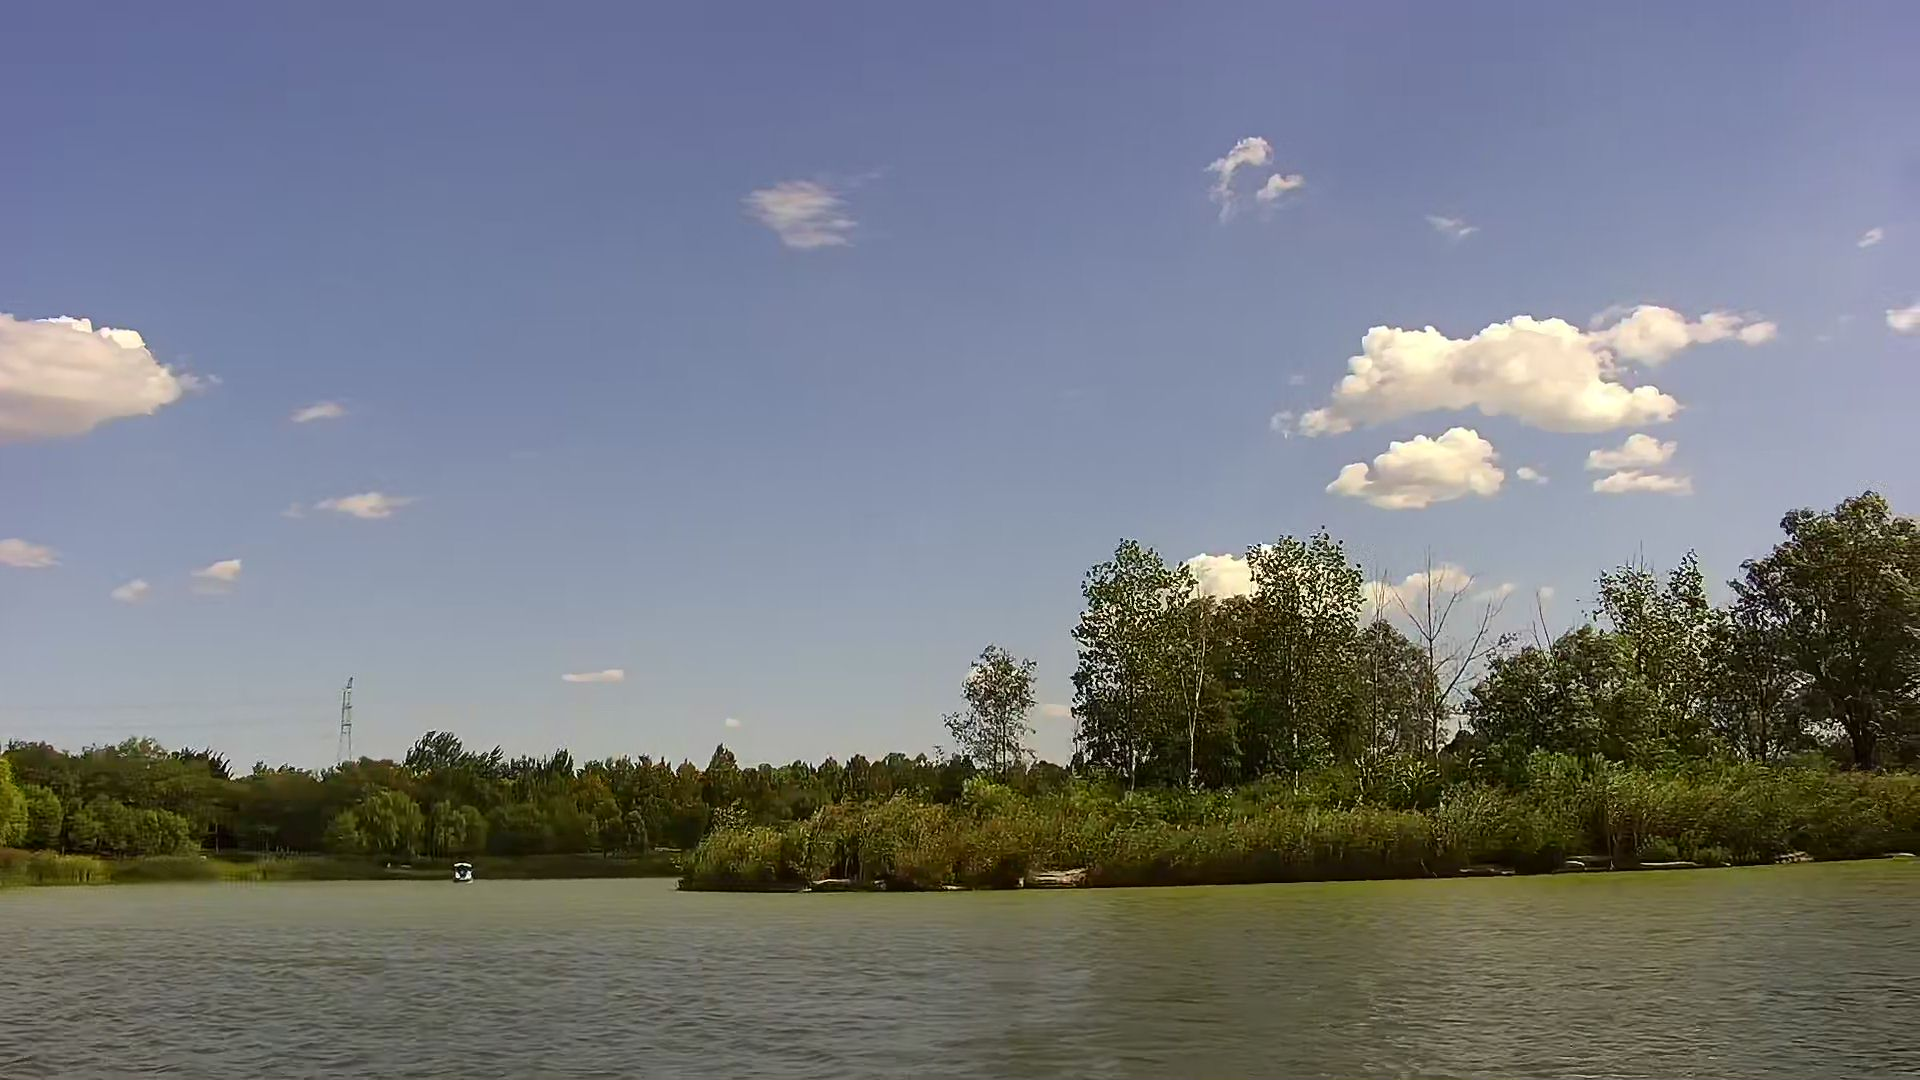rock: (1015, 866, 1079, 889), (804, 873, 872, 893)
